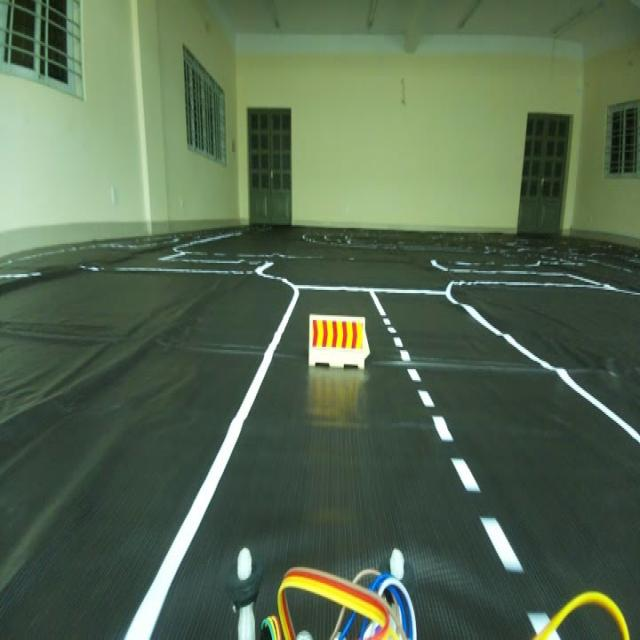roadblock: (304, 303, 378, 387)
